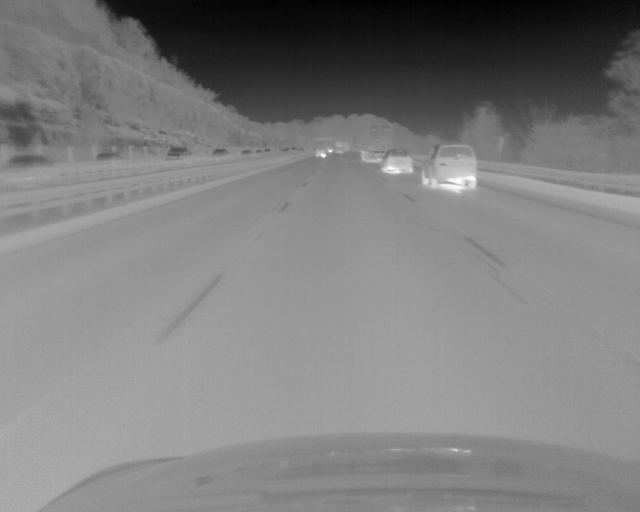car: (420, 144, 480, 192), (360, 124, 394, 164), (4, 154, 54, 172), (381, 150, 412, 175), (167, 146, 192, 159), (97, 152, 121, 162), (212, 148, 228, 156), (242, 150, 250, 154)
